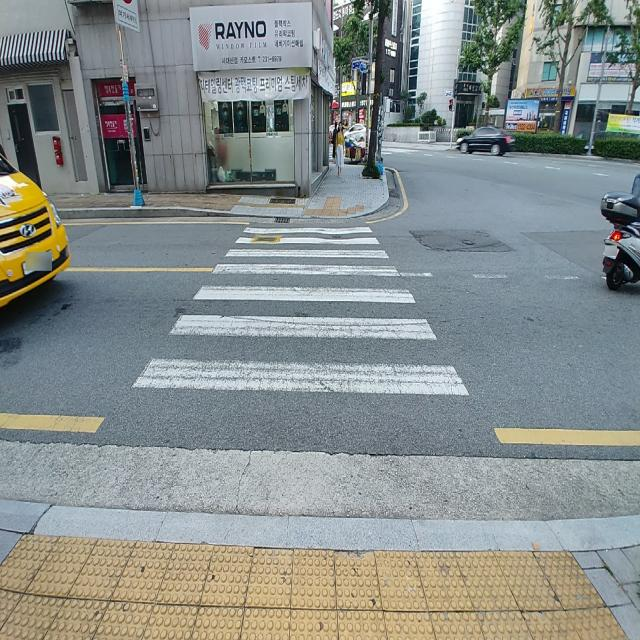빨간불: (447, 96, 454, 114)
횡단보도: (132, 228, 468, 396)
